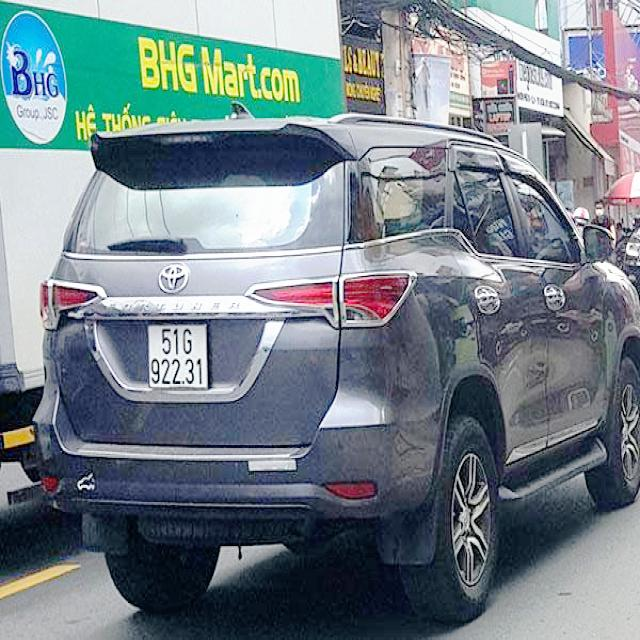license_plate: (149, 326, 208, 389)
